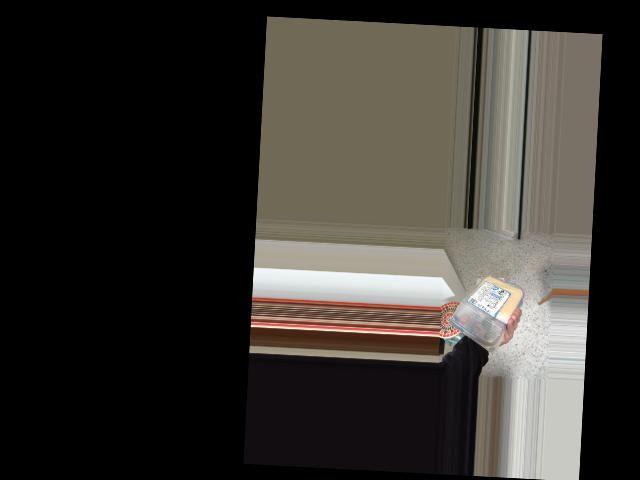cheese: (450, 271, 515, 343)
